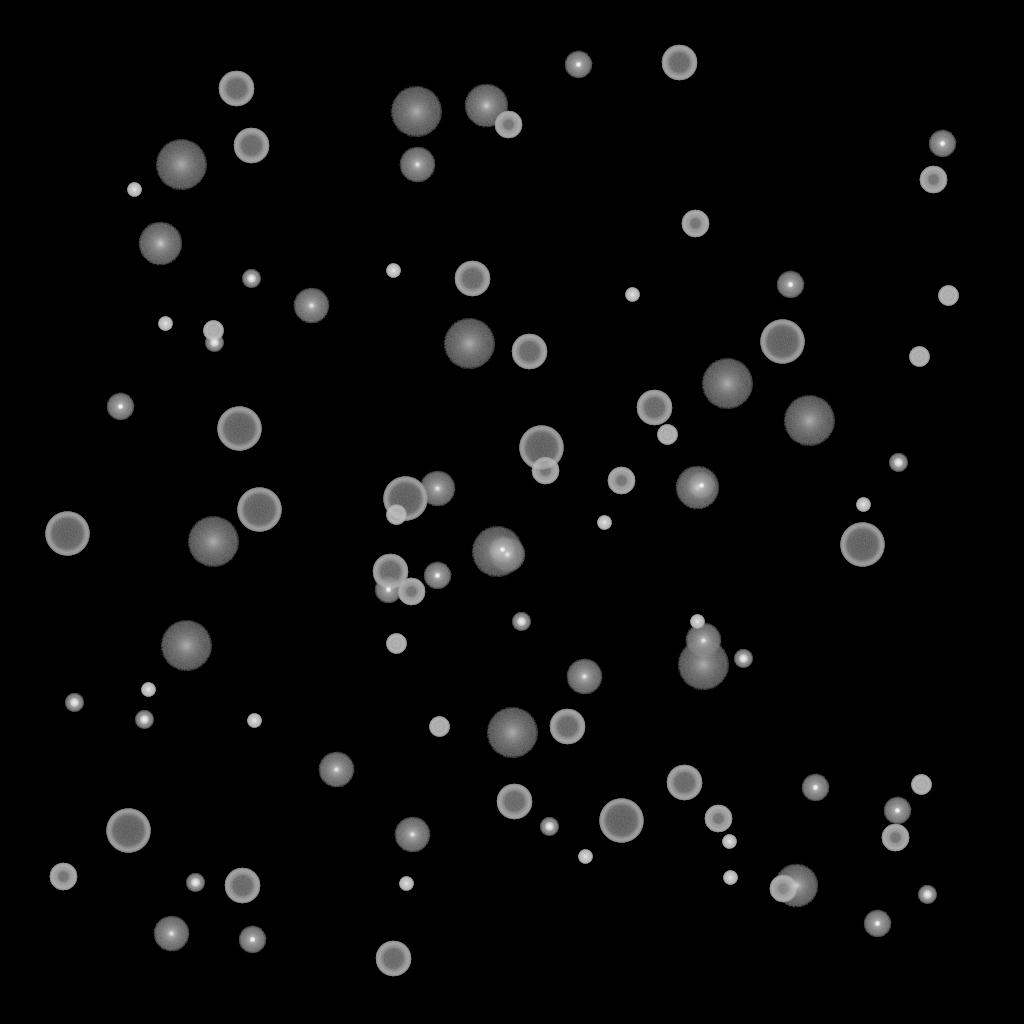depth:-10: (883, 797, 911, 825), (564, 51, 592, 79), (423, 562, 451, 590), (238, 926, 266, 954), (488, 536, 516, 564), (863, 910, 891, 938), (374, 576, 402, 604), (106, 393, 134, 421), (928, 130, 956, 158), (687, 472, 715, 500), (801, 774, 829, 802), (776, 271, 804, 299)
depth:-20: (540, 818, 558, 836), (242, 270, 260, 288), (135, 711, 153, 729), (186, 874, 204, 892), (734, 650, 752, 668), (918, 886, 936, 904), (889, 454, 907, 472), (65, 694, 83, 712), (205, 334, 223, 352), (512, 613, 530, 631)
depth:-30: (597, 516, 611, 530), (690, 615, 704, 629), (247, 714, 261, 728), (386, 264, 400, 278), (723, 871, 737, 885), (625, 288, 639, 302), (856, 498, 870, 512), (141, 683, 155, 697), (127, 183, 141, 197), (399, 877, 413, 891), (722, 835, 736, 849), (578, 850, 592, 864), (158, 317, 172, 331)
depth:-40: (429, 717, 449, 737), (386, 505, 406, 525), (911, 775, 931, 795), (386, 634, 406, 654), (938, 286, 958, 306), (909, 347, 929, 367), (203, 321, 223, 341), (657, 425, 677, 445)
depth:-50: (607, 467, 635, 495), (531, 457, 559, 485), (49, 863, 77, 891), (681, 210, 709, 238), (704, 805, 732, 833), (919, 166, 947, 194), (881, 824, 909, 852), (494, 111, 522, 139), (397, 578, 425, 606), (769, 875, 797, 903)
depth:-60: (224, 868, 260, 904), (233, 128, 269, 164), (454, 261, 490, 297), (372, 554, 408, 590), (496, 784, 532, 820), (666, 765, 702, 801), (636, 390, 672, 426), (375, 941, 411, 977), (549, 709, 585, 745), (218, 71, 254, 107), (511, 334, 547, 370), (661, 45, 697, 81)
depth:-70: (217, 407, 261, 451), (383, 477, 427, 521), (519, 426, 563, 470), (45, 512, 89, 556), (760, 320, 804, 364), (106, 809, 150, 853), (840, 523, 884, 567), (237, 488, 281, 532), (599, 799, 643, 843)
depth:0: (566, 659, 602, 695), (153, 916, 189, 952), (318, 752, 354, 788), (419, 471, 455, 507), (293, 288, 329, 324), (685, 623, 721, 659), (394, 817, 430, 853), (399, 147, 435, 183), (489, 537, 525, 573)
depth:10: (464, 84, 508, 128), (138, 222, 182, 266), (675, 466, 719, 510), (774, 864, 818, 908)
depth:20: (155, 140, 207, 190), (486, 708, 538, 758), (783, 396, 835, 446), (160, 621, 212, 671), (677, 640, 729, 690), (187, 517, 239, 567), (443, 319, 495, 369), (390, 87, 442, 137), (471, 527, 523, 577), (701, 359, 753, 409)
